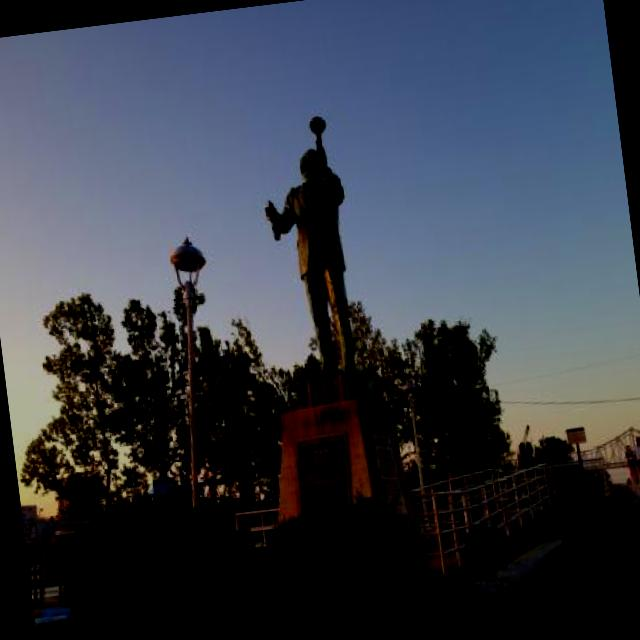Person: (255, 132, 367, 382), (621, 427, 640, 490)
